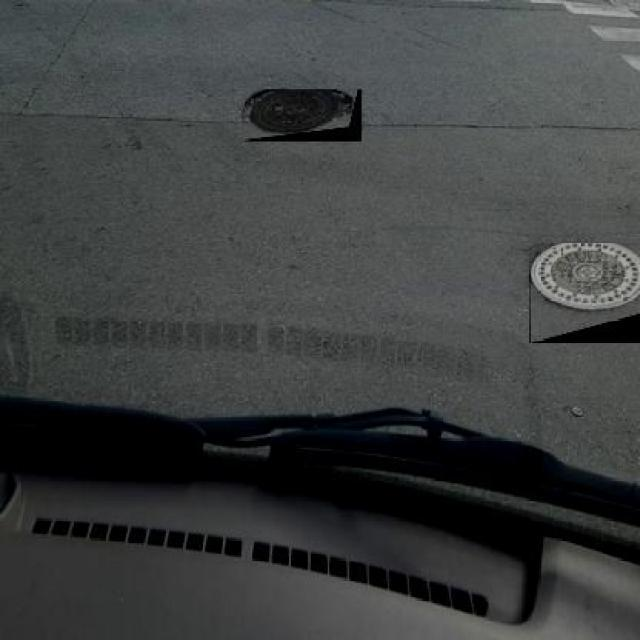Manhole: (529, 243, 640, 343), (245, 89, 362, 142)
